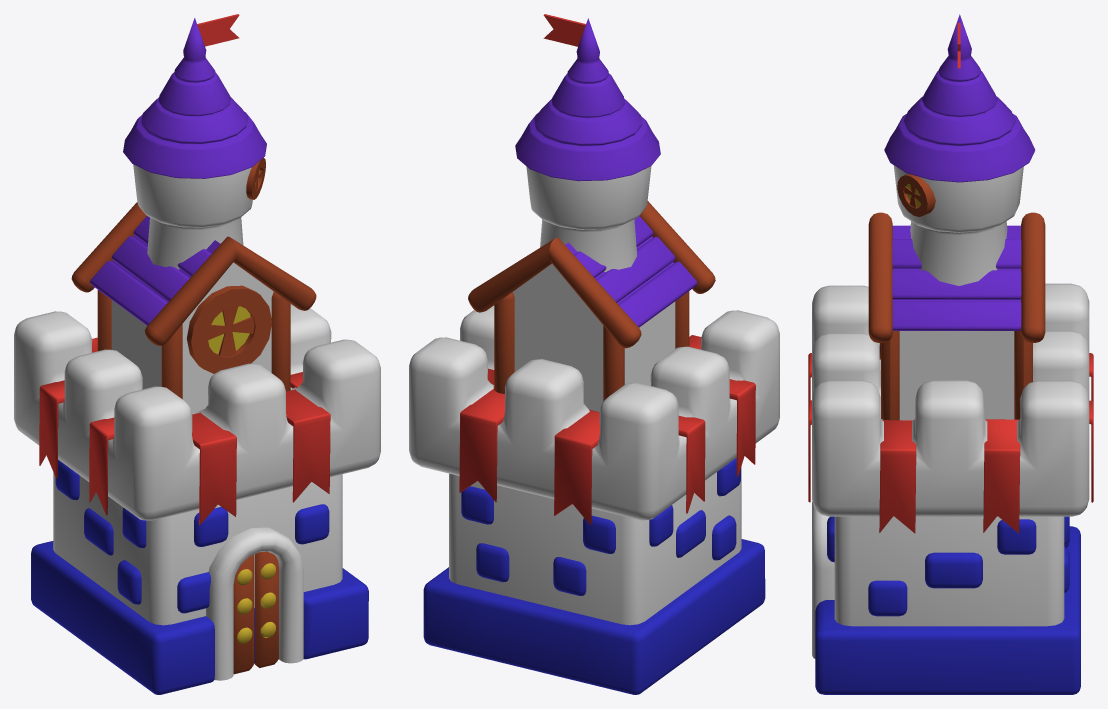
Rendered from Tower_1.fbx.
3 renders of one model, left to right at view 1: azimuth 30°, elevation 25°; view 2: azimuth 150°, elevation 25°; view 3: azimuth 270°, elevation 25°, orthographic. The views are drawn at different scales.
Visible parts, largest first — view 1: Tower 1; view 2: Tower 1; view 3: Tower 1.
Part boxes in pixels (bbox=[...]): Tower 1: bbox=[14, 14, 380, 694]; Tower 1: bbox=[409, 14, 779, 694]; Tower 1: bbox=[808, 14, 1093, 694].
Size of the model in its own units: 689 by 1585 by 651.
